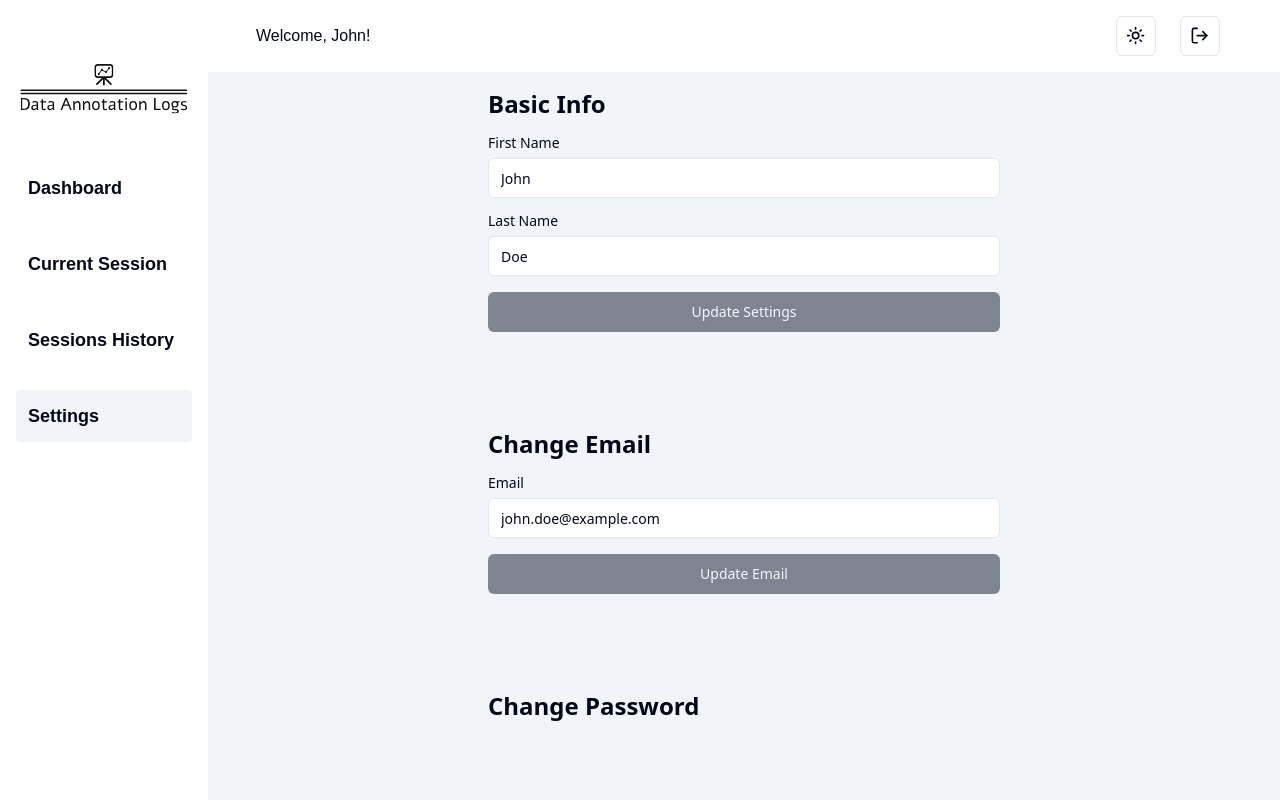
Email Change and Verification › Change Email Form › should enable and disable update button based on email changes
Replace the text in the field with test id "email-input" with "new.email@example.com". click: (744, 518)
box: [488,498,1000,538]
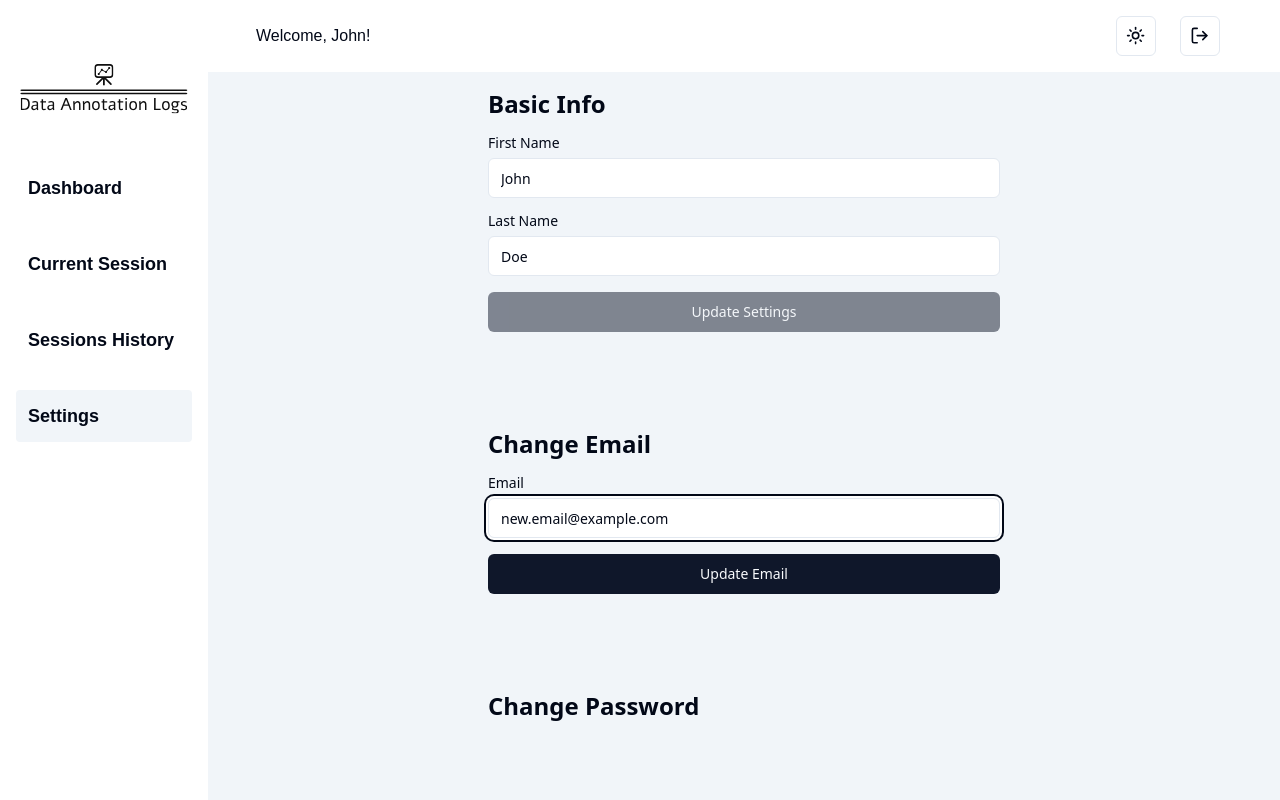
Check: the button with test id "update-email-button" is enabled, box [488,554,1000,594]
Replace the text in the field with test id "email-input" with "john.doe@example.com". click: (744, 518)
box: [488,498,1000,538]
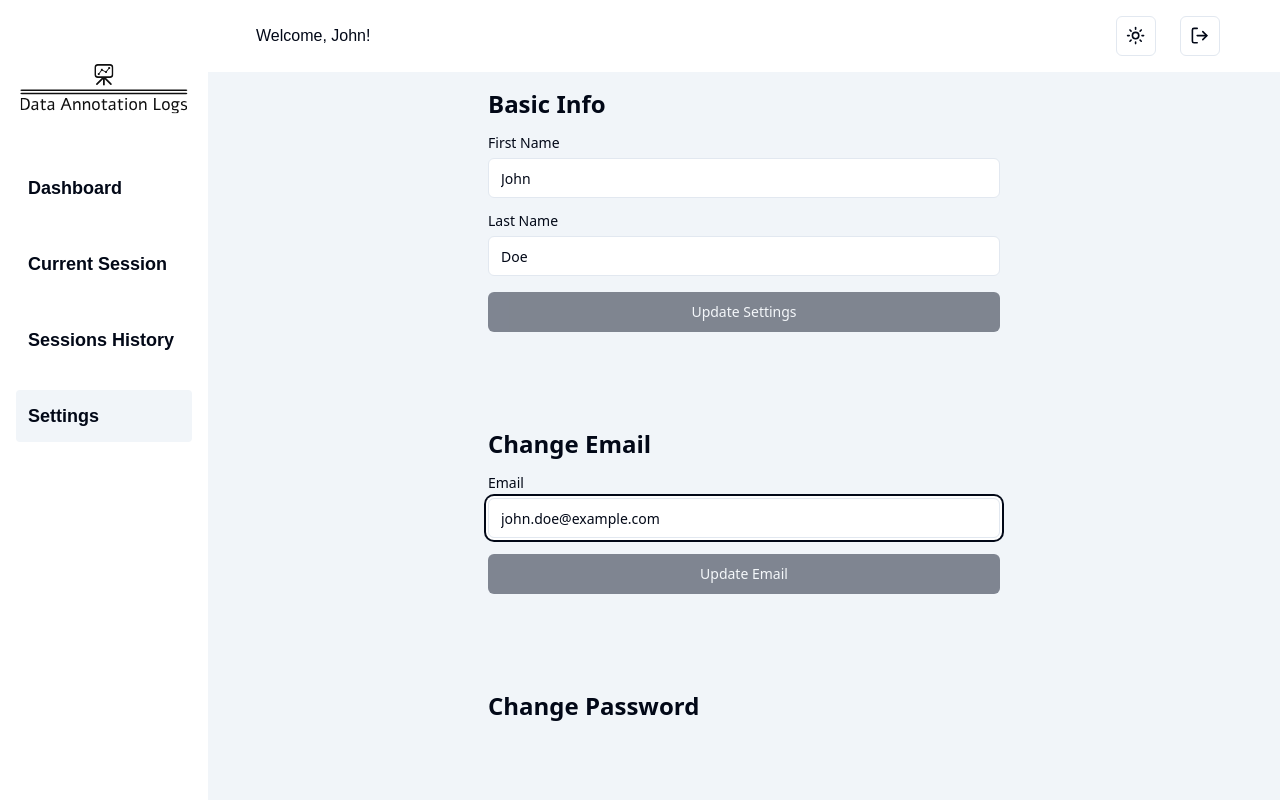
Check: the button with test id "update-email-button" is disabled, box [488,554,1000,594]
